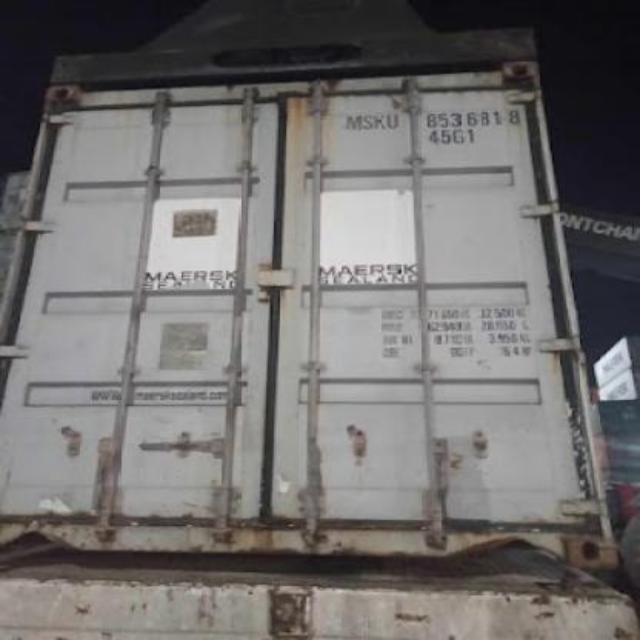1: (492, 109, 504, 127)
3: (451, 111, 464, 127)
5: (438, 112, 450, 128)
6: (468, 111, 480, 127)
8: (508, 108, 522, 126), (426, 112, 438, 128), (480, 111, 492, 127)
K: (374, 112, 388, 132)
M: (342, 113, 363, 131)
S: (362, 113, 374, 131)
U: (386, 111, 399, 131)
